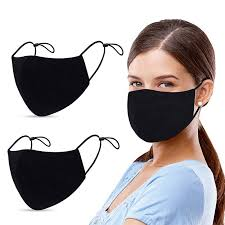with-mask: (124, 18, 211, 151)
